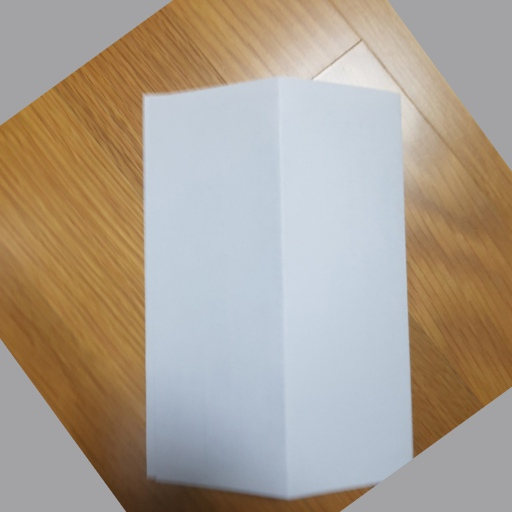Paper_3: (139, 71, 419, 509)
